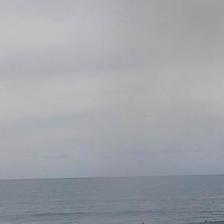surfer: (204, 220, 208, 223), (141, 222, 144, 223)
